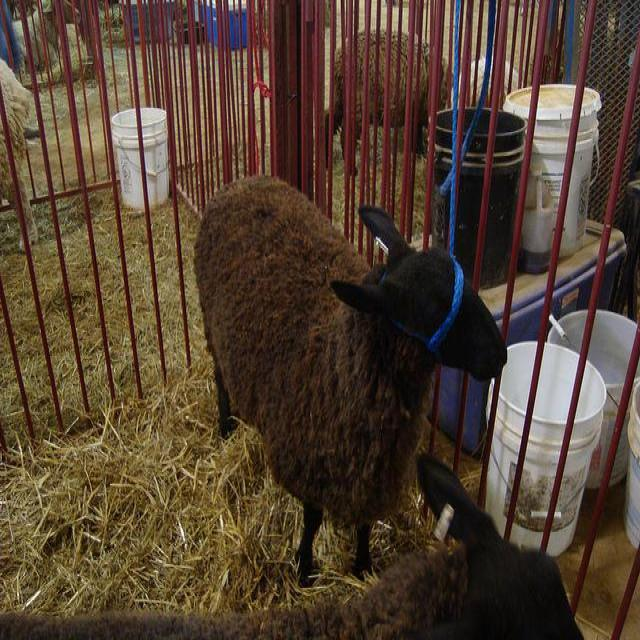Sheep: (196, 172, 512, 592), (2, 457, 590, 639), (324, 24, 449, 183), (2, 62, 41, 250), (453, 55, 520, 109)
